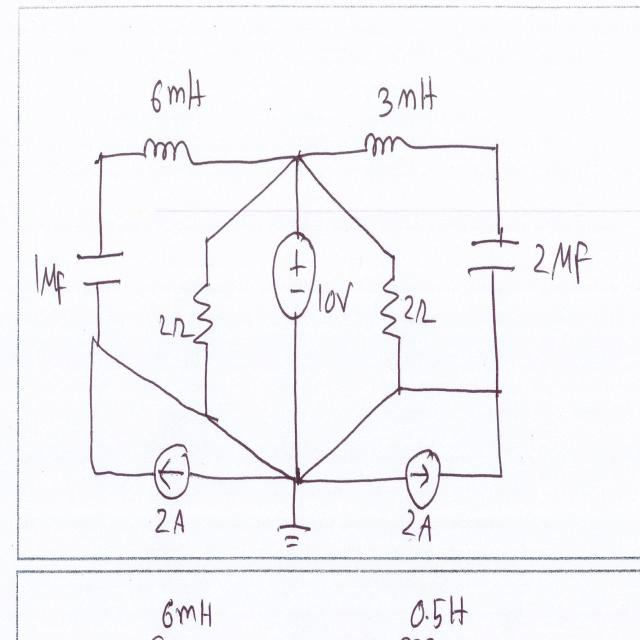capacitor: (463, 220, 522, 288), (71, 243, 128, 298)
current_source: (149, 434, 194, 504), (400, 441, 440, 512)
ground: (274, 515, 314, 555)
inductor: (139, 128, 199, 176), (360, 124, 416, 166)
resistor: (190, 269, 217, 355), (378, 269, 406, 350)
voltage_source: (270, 224, 318, 332)
